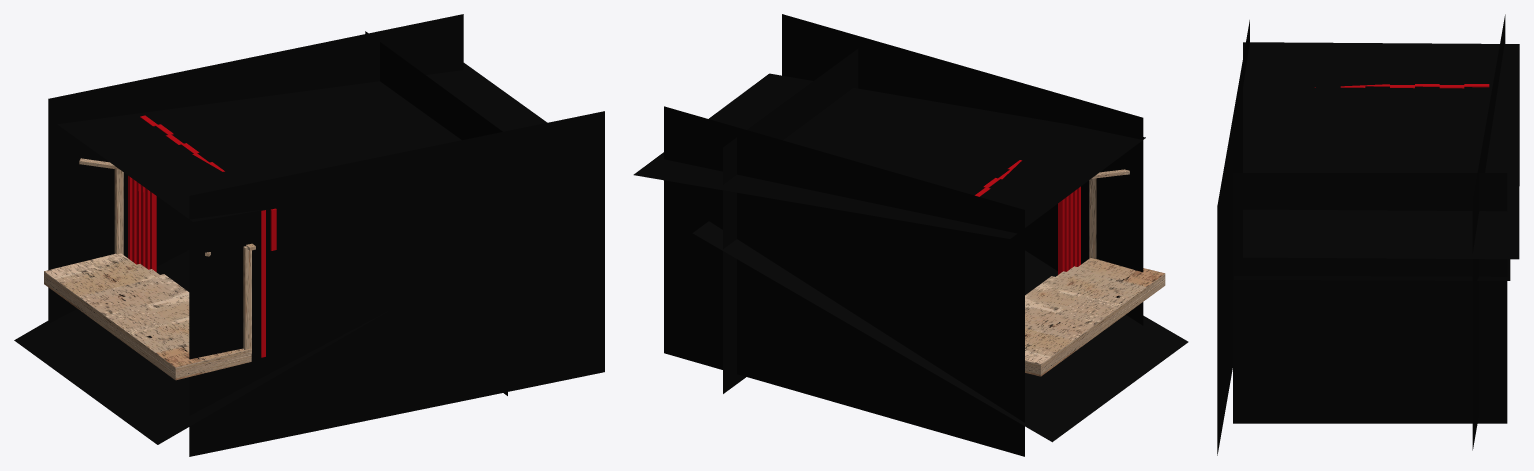
The model's file is escenario.glb.
3 renders of one model, left to right at view 1: azimuth 30°, elevation 25°; view 2: azimuth 150°, elevation 25°; view 3: azimuth 270°, elevation 25°, orthographic. The views are drawn at different scales.
Visible parts, largest first — view 1: Plano.003, Plano.005, Plano.002, Plano.004, suelo.001, Plano.001, cortinas.001, poste derecho, poste izq, cortinas, cortinas.002; view 2: Plano.002, Plano.005, Plano.003, Plano.004, suelo.001, Plano.001, cortinas, poste derecho; view 3: Plano.001, Plano.005, Plano.003, Plano.002, Plano.004, cortinas.002.
Part boxes in pixels (left/top/right/bottom): Plano.003: left=189, top=111, right=604, bottom=456; Plano.005: left=57, top=63, right=547, bottom=221; Plano.002: left=48, top=14, right=463, bottom=323; Plano.004: left=14, top=250, right=393, bottom=444; suelo.001: left=44, top=253, right=251, bottom=380; Plano.001: left=365, top=31, right=507, bottom=395; cortinas.001: left=128, top=175, right=156, bottom=271; poste derecho: left=243, top=246, right=251, bottom=353; poste izq: left=114, top=169, right=123, bottom=254; cortinas: left=261, top=210, right=265, bottom=357; cortinas.002: left=140, top=115, right=276, bottom=250; Plano.002: left=664, top=106, right=1024, bottom=456; Plano.005: left=633, top=73, right=1145, bottom=238; Plano.003: left=782, top=14, right=1143, bottom=325; Plano.004: left=692, top=221, right=1188, bottom=442; suelo.001: left=1025, top=258, right=1165, bottom=376; Plano.001: left=723, top=48, right=858, bottom=393; cortinas: left=1058, top=186, right=1080, bottom=274; poste derecho: left=1089, top=178, right=1096, bottom=258; Plano.001: left=1233, top=173, right=1507, bottom=423; Plano.005: left=1243, top=42, right=1519, bottom=259; Plano.003: left=1217, top=20, right=1249, bottom=455; Plano.002: left=1472, top=14, right=1505, bottom=450; Plano.004: left=1233, top=259, right=1510, bottom=280; cortinas.002: left=1315, top=84, right=1489, bottom=88.
Size of the model in its own units: 187 by 110 by 116.
5 materials, 1 textured.
